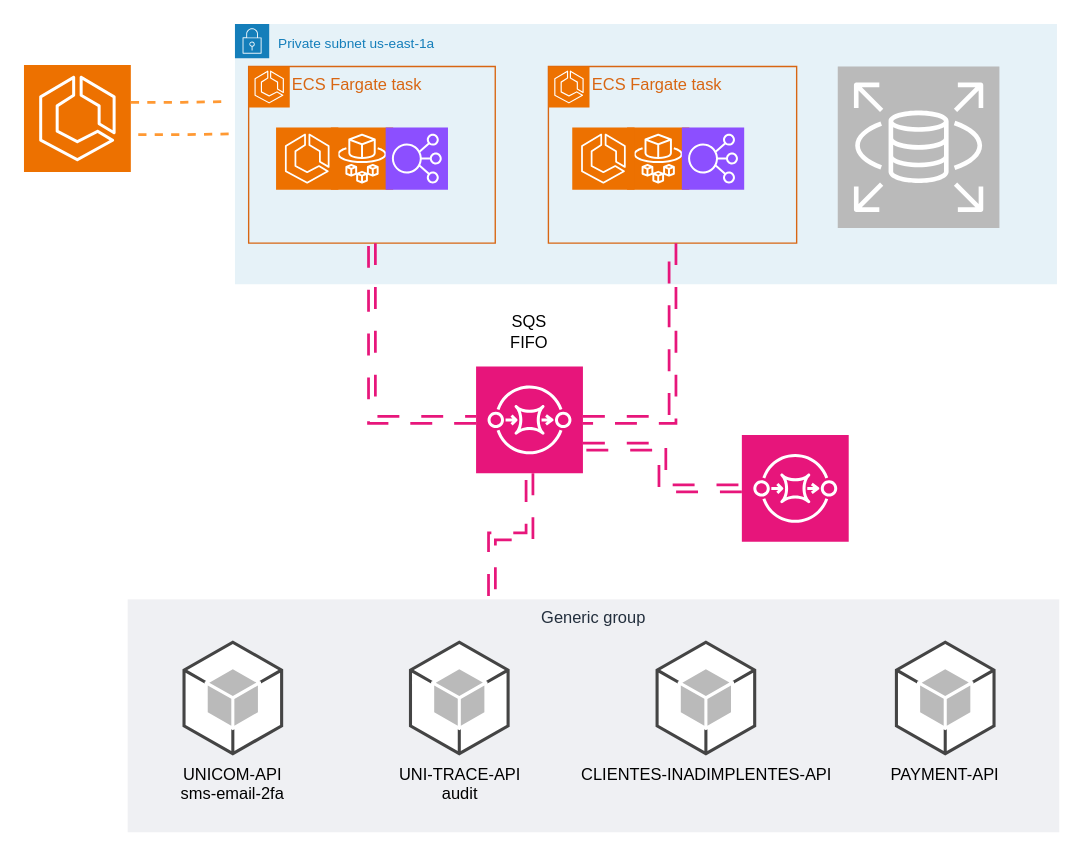
This 1084x856 diagram has some shape labels left out. The centre of each missing label's shape, as x and y in pixels:
"ECS" goes at [77,118].
"MYSQL SERVERLESS" goes at [917,146].
"SQS DLQ" goes at [794,488].
